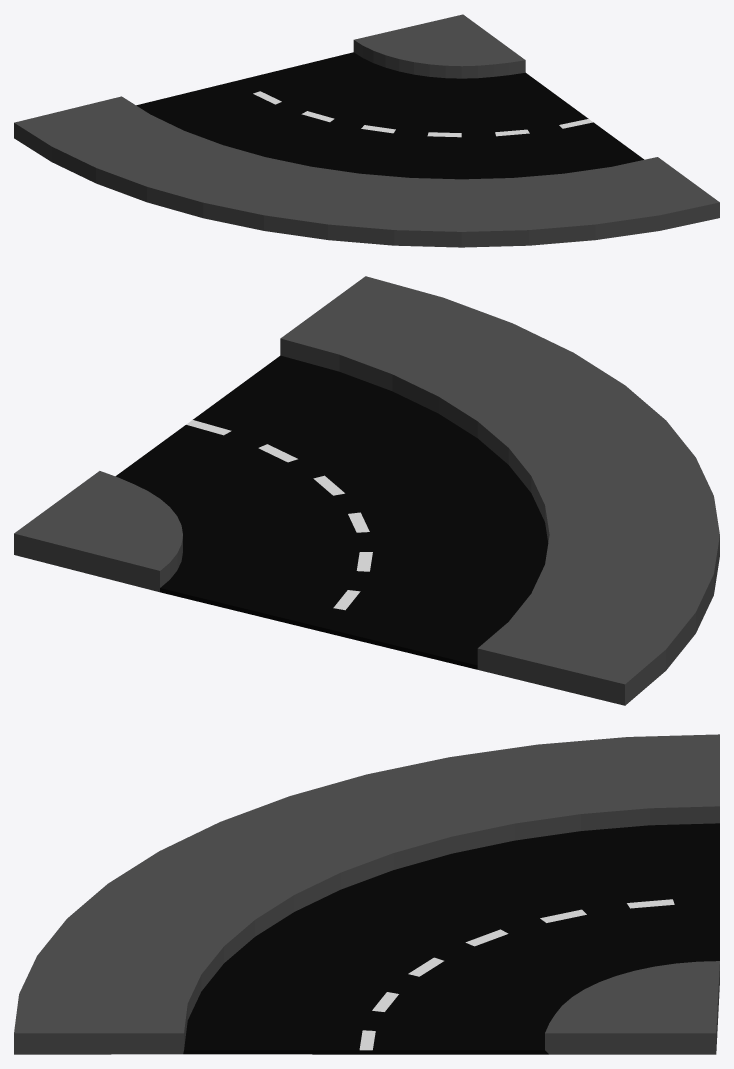
Rendered from low_poly_curve_road.glb.
3 renders of one model, top to bottom at view 1: azimuth 30°, elevation 25°; view 2: azimuth 150°, elevation 25°; view 3: azimuth 270°, elevation 25°, orthographic. The views are drawn at different scales.
Visible parts, largest first — view 1: Curve_0; view 2: Curve_0; view 3: Curve_0.
Part boxes in pixels (left/top/right/bottom): Curve_0: left=14, top=14, right=719, bottom=247; Curve_0: left=14, top=276, right=719, bottom=705; Curve_0: left=14, top=734, right=719, bottom=1054.
Bounding box in the file's own units: 12 × 0.4 × 11.98.
1 material, 1 textured.
